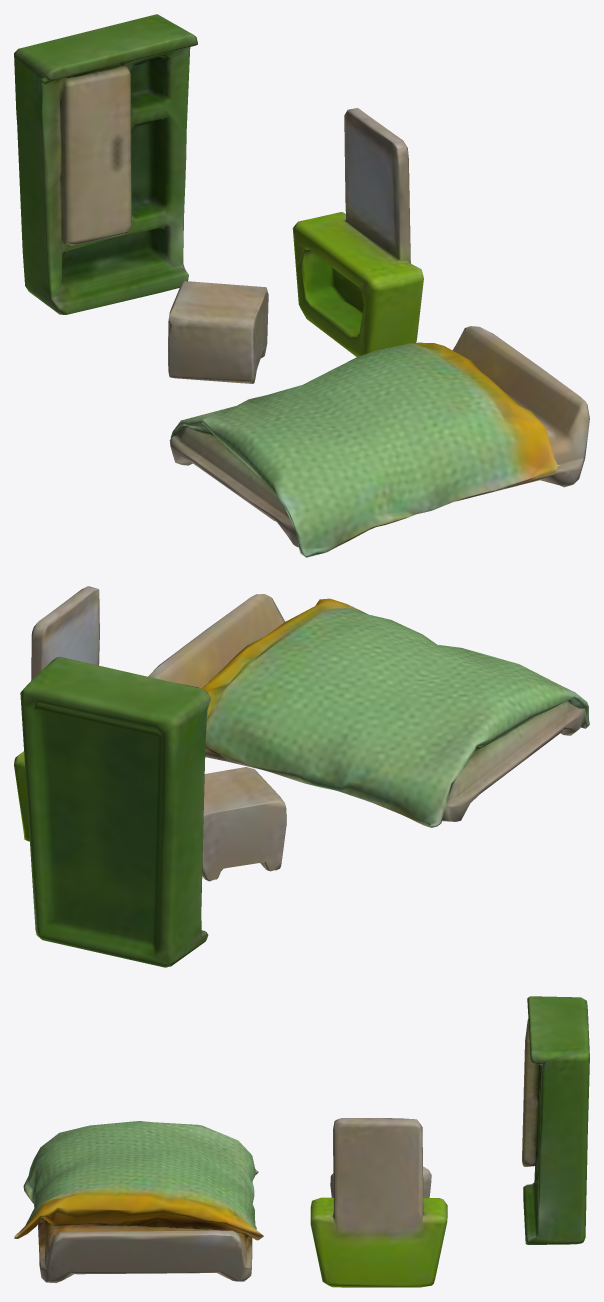
File: gso_parent_room_furniture_set_1_dlkey8h4mwk.glb
3 views of the same model, one above another, from view 1: azimuth 30°, elevation 25°; view 2: azimuth 150°, elevation 25°; view 3: azimuth 270°, elevation 25° (orthographic). The views are drawn at different scales.
Parts seen in each view (by area): view 1: z-up-to-y-up; view 2: z-up-to-y-up; view 3: z-up-to-y-up.
Boxes of the visible parts, box(x1,y1,x2,y2) form: z-up-to-y-up: box(14, 14, 589, 557); z-up-to-y-up: box(14, 586, 589, 967); z-up-to-y-up: box(14, 996, 589, 1287).
Size of the model in its own units: 0.1443 by 0.1114 by 0.289.
1 material, 1 textured.
